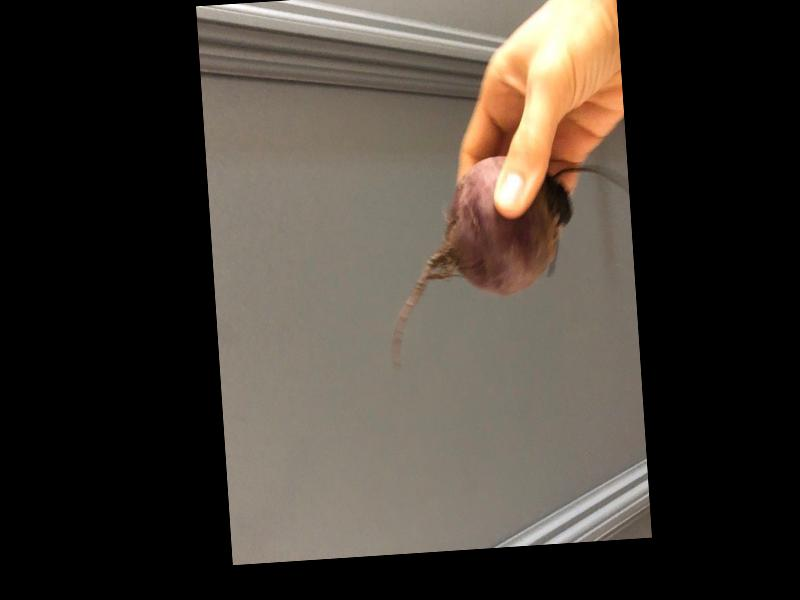Beet: (379, 148, 640, 373)
